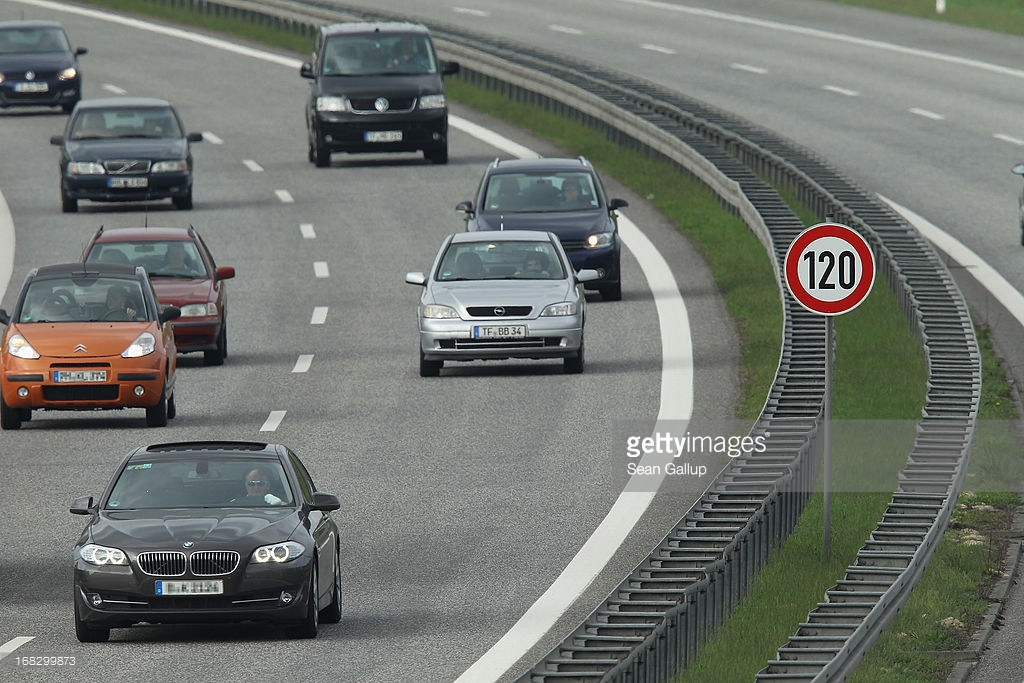Speed_limit_120km: (781, 222, 877, 316)
car: (64, 438, 352, 644), (399, 229, 605, 381), (1, 256, 176, 428), (296, 23, 466, 169), (48, 94, 208, 217)
